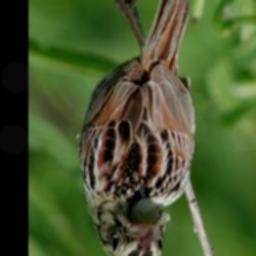Sparrow: (76, 0, 193, 256)
